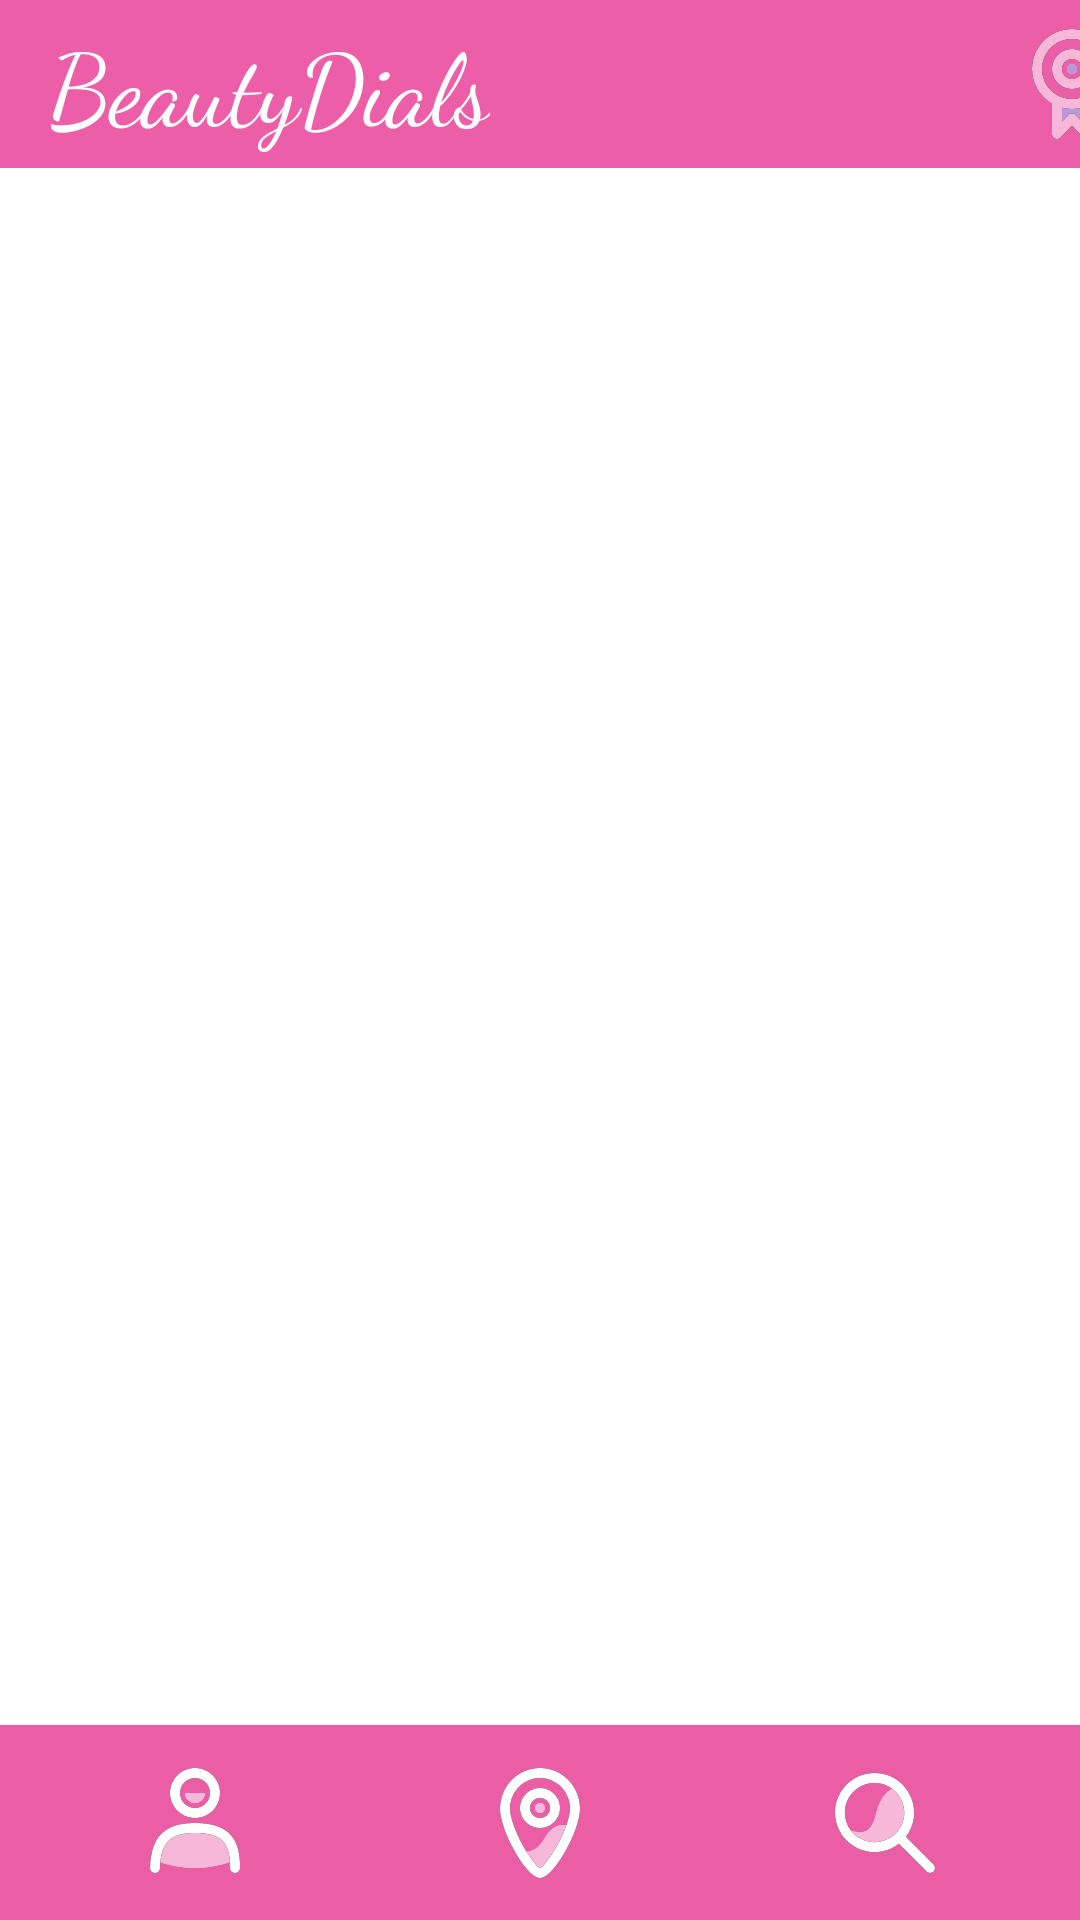

Locate icon controls on the screen. Image size 1080 x 1920, boxes as (x1, y1, x2, y2).
location: (500, 1768, 580, 1878)
user: (150, 1768, 240, 1873)
